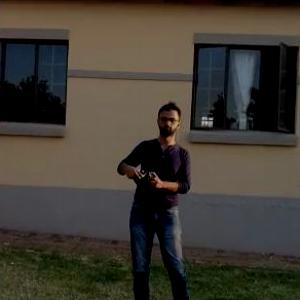follow: (112, 97, 194, 299)
